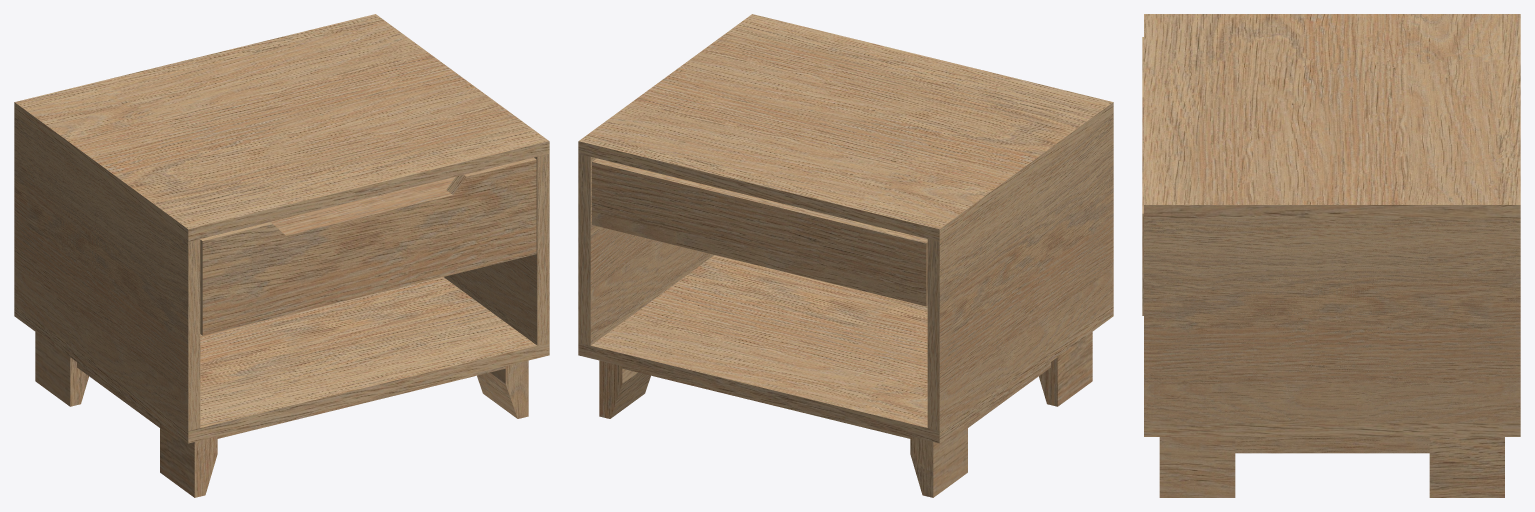
File: bedside table with drawer.obj
The picture shows the model from 3 angles, left to right: view 1: azimuth 30°, elevation 25°; view 2: azimuth 150°, elevation 25°; view 3: azimuth 270°, elevation 25°; orthographic projection. The views are drawn at different scales.
Visible parts, largest first — view 1: Plane, Plane.001, Plane.005_Plane.006, Cube_Cube.001; view 2: Plane, Plane.001, Plane.005_Plane.006, Cube_Cube.001; view 3: Plane, Plane.001, Cube_Cube.001, Plane.005_Plane.006.
Part boxes in pixels (box(x1,y1,x2,y2)): Plane: box(14, 14, 549, 443); Plane.001: box(14, 115, 549, 430); Plane.005_Plane.006: box(200, 157, 536, 335); Cube_Cube.001: box(35, 332, 528, 497); Plane: box(578, 14, 1113, 443); Plane.001: box(578, 115, 1113, 430); Plane.005_Plane.006: box(592, 158, 927, 306); Cube_Cube.001: box(599, 332, 1092, 497); Plane: box(1144, 14, 1520, 436); Plane.001: box(1144, 218, 1520, 423); Cube_Cube.001: box(1159, 437, 1504, 497); Plane.005_Plane.006: box(1142, 37, 1143, 315).
Bounding box in the file's own units: 0.6 × 0.4401 × 0.5023.
1 material, 1 textured.
